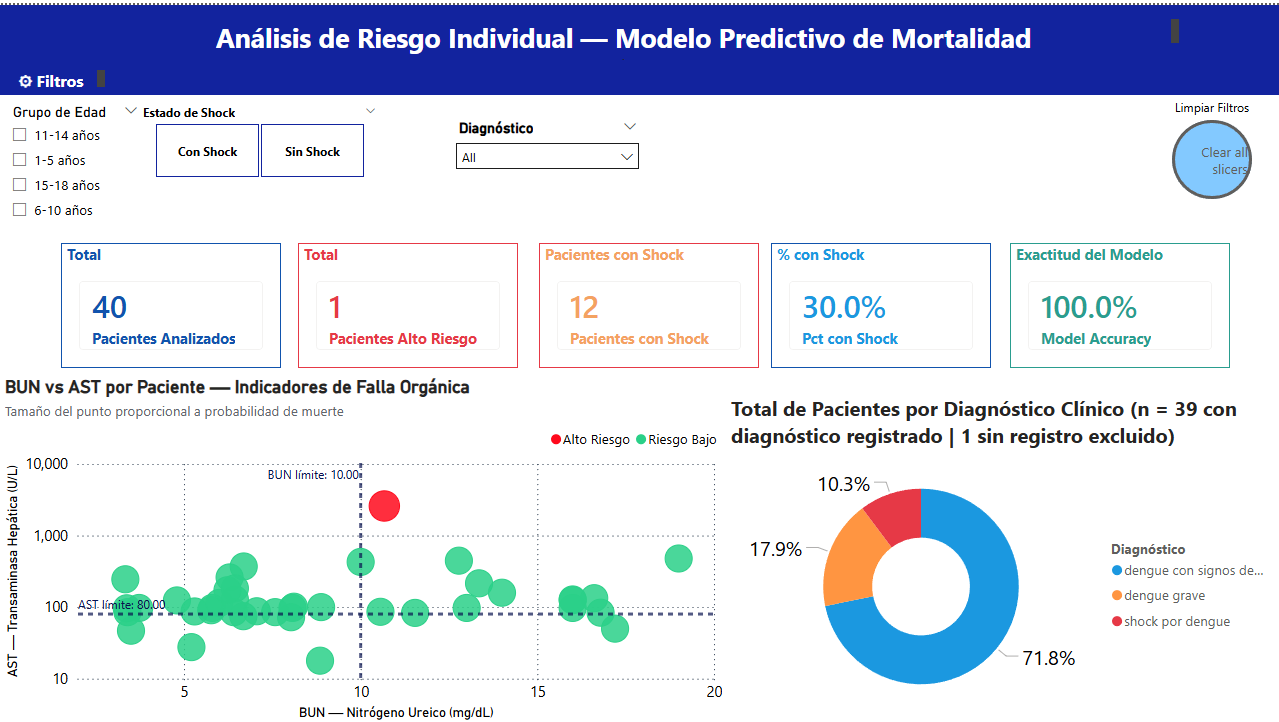

The dashboard page shown, as its layout file describes it:
{"tool":"powerbi","page":{"name":"2. Patient Risk Overview (Visión de Riesgo Global)","canvas":[1280,720],"ordinal":1},"visuals":[{"type":"donutChart","title":"Total de Pacientes por Diagnóstico Clínico (n = 39 con diagnóstico registrado | 1 sin registro excluido)","fields":{"Category":["predictions_test_set.Diagnostico_Clean"],"Y":["predictions_test_set.Total Patients"]},"box":[726.2,388.8,553.8,331.2],"z":0},{"type":"scatterChart","title":"BUN vs AST por Paciente — Indicadores de Falla Orgánica","fields":{"X":["predictions_test_set.bun"],"Y":["predictions_test_set.ast"],"Size":["Avg(predictions_test_set.Probabilidad_Muerte)"],"Series":["predictions_test_set.Risk_Category"],"Category":["predictions_test_set.ID_Paciente"]},"box":[0,371.1,726.7,348.9],"z":1000},{"type":"cardVisual","title":"Total","fields":{"Data":["predictions_test_set.High Risk Patients"]},"box":[297.6,238.2,220,125],"z":2000},{"type":"cardVisual","title":"Pacientes con Shock","fields":{"Data":["predictions_test_set.Patients With Shock"]},"box":[538.9,238.2,220,125],"z":3000},{"type":"cardVisual","title":"% con Shock","fields":{"Data":["predictions_test_set.Pct With Shock"]},"box":[771.2,238.2,220,125],"z":4000},{"type":"cardVisual","title":"Exactitud del Modelo","fields":{"Data":["predictions_test_set.Model Accuracy"]},"box":[1010.2,238.2,220,125],"z":5000},{"type":"shape","box":[0,0,1280,60],"z":6000},{"type":"textbox","box":[71.2,8.8,1112.5,51.2],"z":7000},{"type":"shape","box":[0,60,1280,30],"z":8000},{"type":"cardVisual","title":"Total","fields":{"Data":["predictions_test_set.Total Patients"]},"box":[61.2,238.2,220,125],"z":9000},{"type":"textbox","box":[0,60,110,30],"z":10000},{"type":"slicer","fields":{"Values":["predictions_test_set.Diagnostico_Clean"]},"box":[445.6,110,203.3,68.9],"z":11000},{"type":"slicer","fields":{"Values":["predictions_test_set.Age_Group"]},"box":[0,94.4,150,130],"z":12000},{"type":"slicer","fields":{"Values":["predictions_test_set.Shock_Consolidado"]},"box":[130,94.4,257.8,84.4],"z":13000},{"type":"actionButton","title":"Limpiar Filtros","box":[1172.2,94.4,80,100],"z":14000}]}

Visuals, with their boxes in screenshot pixels (x1, y1, x2, y2), scaled from the page's 1280x720 canvas onto the 1279x722 screenshot:
"Total de Pacientes por Diagnóstico Clínico (n = 39 con diagnóstico registrado | 1 sin registro excluido)" donutChart: bbox=[726, 390, 1278, 721]
"BUN vs AST por Paciente — Indicadores de Falla Orgánica" scatterChart: bbox=[0, 372, 726, 721]
"Total" cardVisual: bbox=[297, 239, 517, 364]
"Pacientes con Shock" cardVisual: bbox=[538, 239, 758, 364]
"% con Shock" cardVisual: bbox=[771, 239, 990, 364]
"Exactitud del Modelo" cardVisual: bbox=[1009, 239, 1229, 364]
shape: bbox=[0, 0, 1278, 60]
textbox: bbox=[71, 9, 1183, 60]
shape: bbox=[0, 60, 1278, 90]
"Total" cardVisual: bbox=[61, 239, 281, 364]
textbox: bbox=[0, 60, 110, 90]
slicer - predictions_test_set.Diagnostico_Clean: bbox=[445, 110, 648, 179]
slicer - predictions_test_set.Age_Group: bbox=[0, 95, 150, 225]
slicer - predictions_test_set.Shock_Consolidado: bbox=[130, 95, 387, 179]
"Limpiar Filtros" actionButton: bbox=[1171, 95, 1251, 195]
